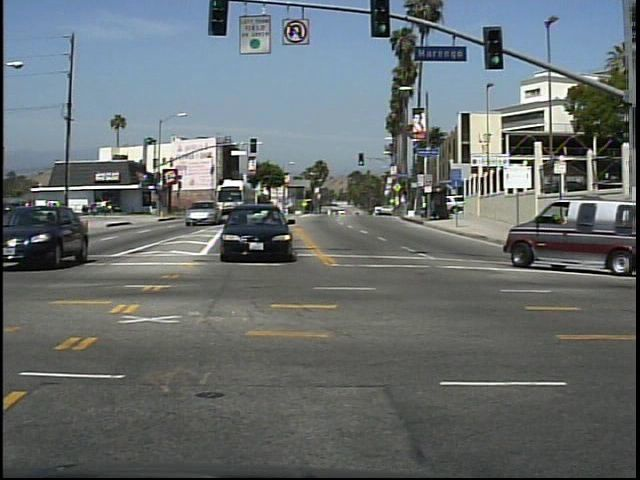person: (23, 194, 39, 223)
